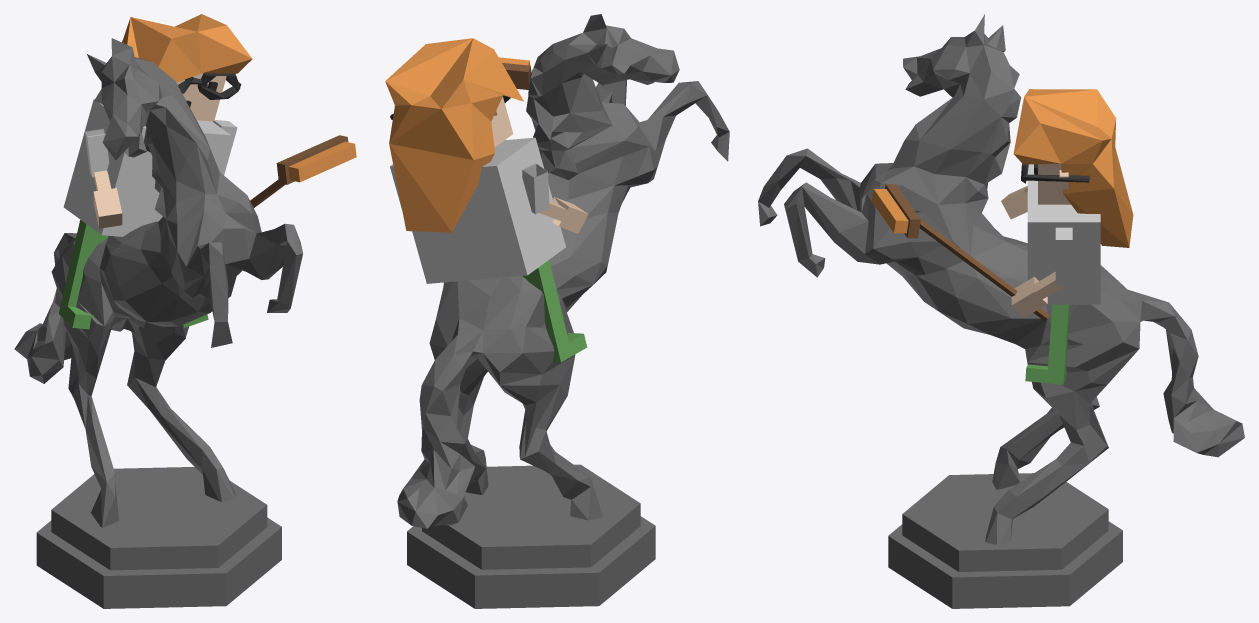
Rendered from SK_Caballero.fbx.
3 renders of one model, left to right at view 1: azimuth 30°, elevation 25°; view 2: azimuth 150°, elevation 25°; view 3: azimuth 270°, elevation 25°, orthographic. The views are drawn at different scales.
Parts seen in each view (by area): view 1: Caballo, Peana, Cuerpo, Pelo, Escoba, Pierna_Dch, Mano_Dch, Cabeza, Gafas, Brazo_Dch; view 2: Caballo, Peana, Pelo, Cuerpo, Pierna_Dch, Brazo_Dch, Mano_Dch, Escoba, Cabeza; view 3: Caballo, Peana, Pelo, Cuerpo, Escoba, Pierna_Izq, Mano_Izq, Brazo_Izq, Cabeza.
Part boxes in pixels (bbox=[...]): Caballo: bbox=[14, 38, 302, 527]; Peana: bbox=[36, 467, 281, 608]; Cuerpo: bbox=[63, 99, 230, 236]; Pelo: bbox=[122, 14, 252, 82]; Escoba: bbox=[250, 135, 356, 207]; Pierna_Dch: bbox=[58, 220, 108, 329]; Mano_Dch: bbox=[93, 170, 122, 228]; Cabeza: bbox=[176, 73, 226, 121]; Gafas: bbox=[178, 73, 241, 99]; Brazo_Dch: bbox=[85, 128, 109, 177]; Caballo: bbox=[397, 14, 729, 528]; Peana: bbox=[407, 464, 655, 608]; Pelo: bbox=[385, 38, 523, 232]; Cuerpo: bbox=[412, 137, 565, 283]; Pierna_Dch: bbox=[522, 260, 587, 362]; Brazo_Dch: bbox=[522, 163, 549, 214]; Mano_Dch: bbox=[539, 197, 588, 233]; Escoba: bbox=[499, 57, 531, 89]; Cabeza: bbox=[491, 97, 513, 147]; Caballo: bbox=[758, 14, 1244, 544]; Peana: bbox=[888, 473, 1122, 608]; Pelo: bbox=[1013, 89, 1133, 247]; Cuerpo: bbox=[1027, 164, 1100, 304]; Escoba: bbox=[871, 184, 1049, 320]; Pierna_Izq: bbox=[1025, 304, 1069, 384]; Mano_Izq: bbox=[1011, 271, 1065, 317]; Brazo_Izq: bbox=[1055, 227, 1072, 285]; Cabeza: bbox=[1038, 163, 1070, 204].
Bounding box in the file's own units: 63.51 × 140 × 118.
